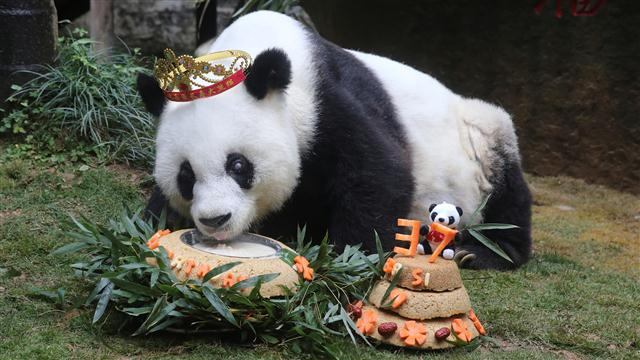panda: (154, 3, 557, 275)
